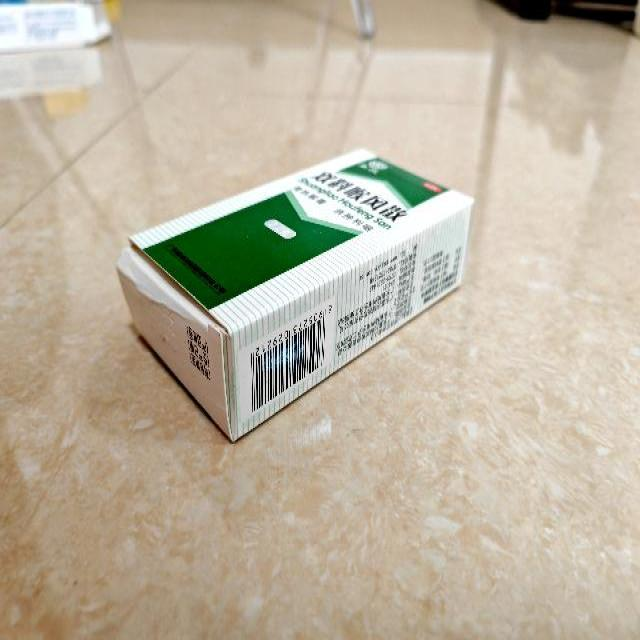box: (123, 147, 473, 442)
